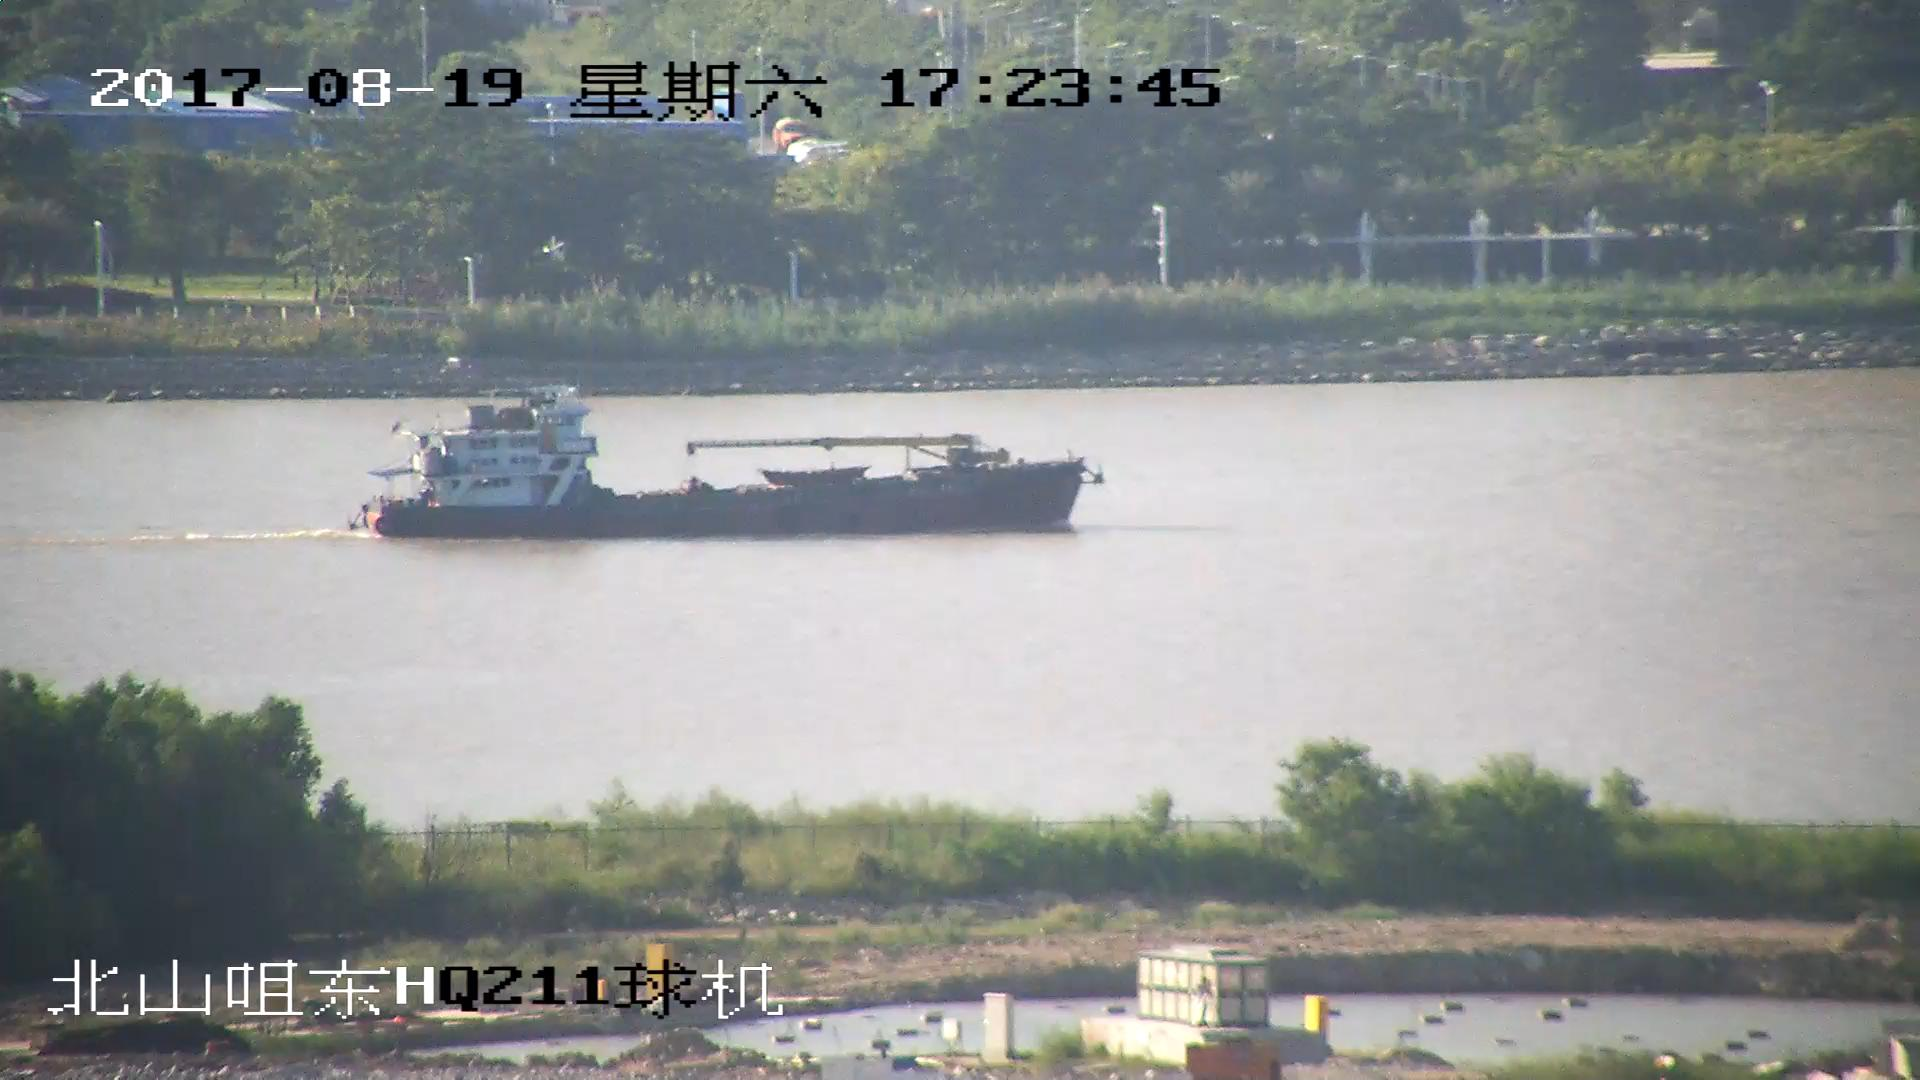bulk cargo carrier: (357, 390, 1100, 540)
